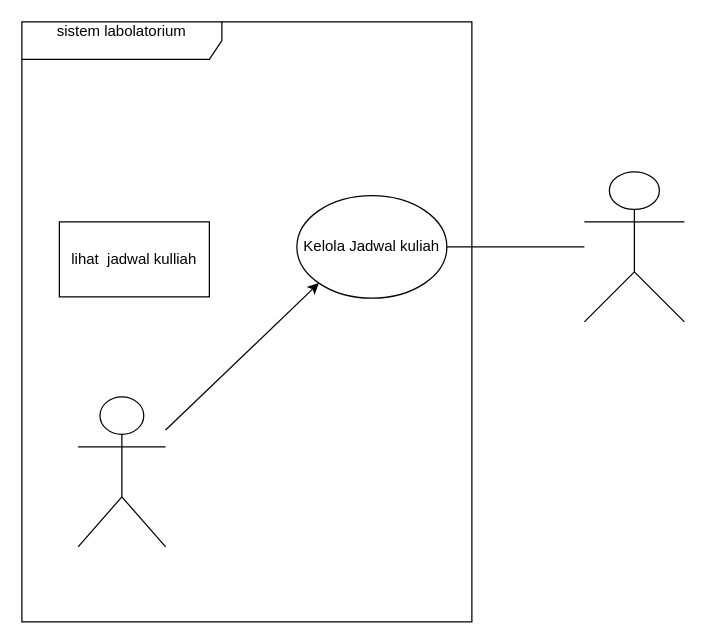
The diagram is 718 pixels wide and 644 high, and some of its shapes have lost their labels. Here are the shapes that lost their labels. From the top down, the box of each, then its label:
(583, 171, 684, 322): Petugas Akademik
(77, 396, 166, 547): Mhasiswa
